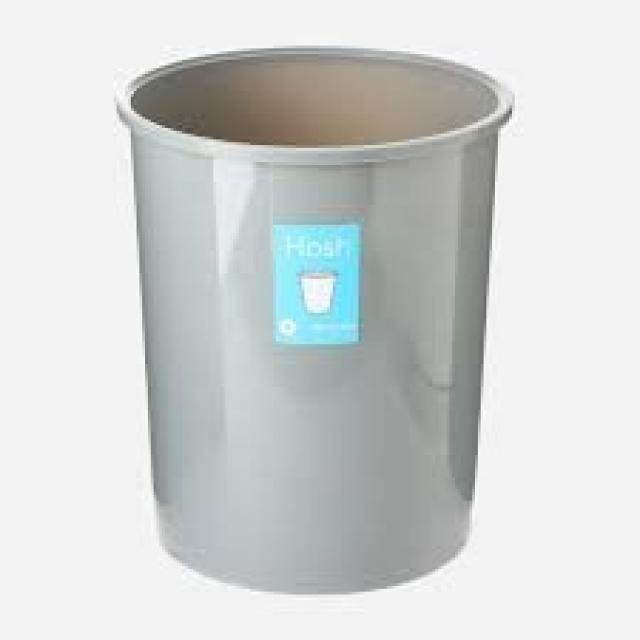Dumpster: (112, 45, 516, 596)
